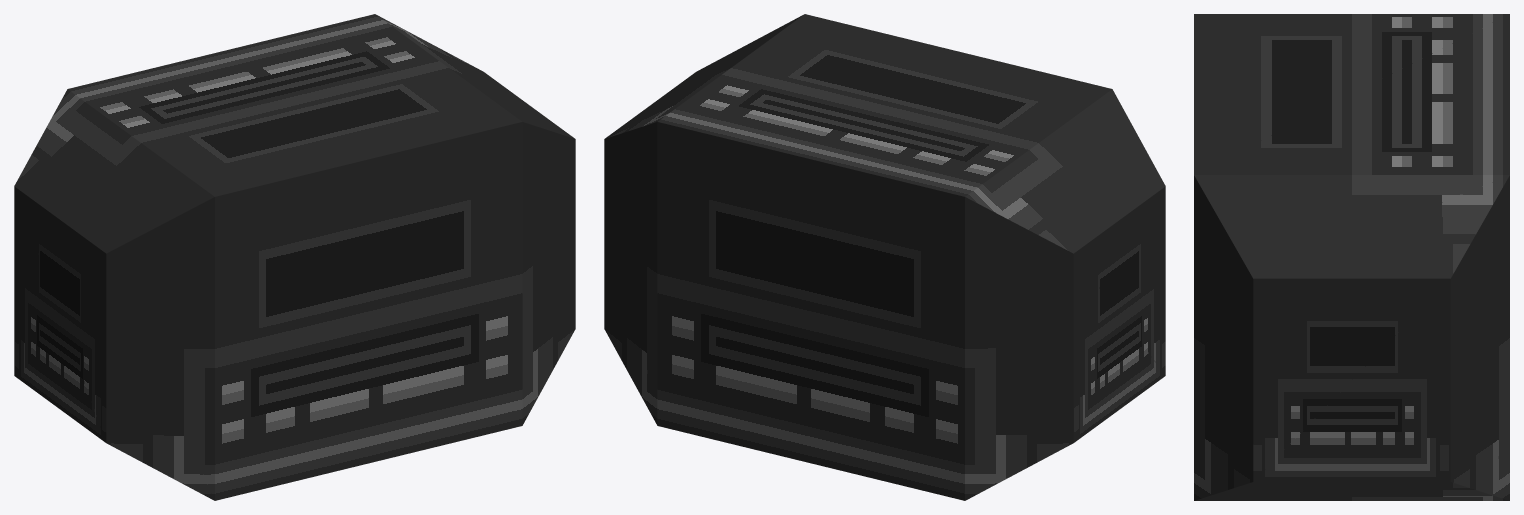
3 renders of one model, left to right at view 1: azimuth 30°, elevation 25°; view 2: azimuth 150°, elevation 25°; view 3: azimuth 270°, elevation 25°, orthographic. The views are drawn at different scales.
Visible parts, largest first — view 1: ss3d_56; view 2: ss3d_56; view 3: ss3d_56.
Part boxes in pixels (left/top/right/bottom): ss3d_56: left=14, top=14, right=575, bottom=500; ss3d_56: left=604, top=14, right=1165, bottom=500; ss3d_56: left=1194, top=14, right=1509, bottom=500.
Bounding box in the file's own units: 1.45 × 0.8965 × 0.7875.
Materials: 1 (1 with a texture image).
